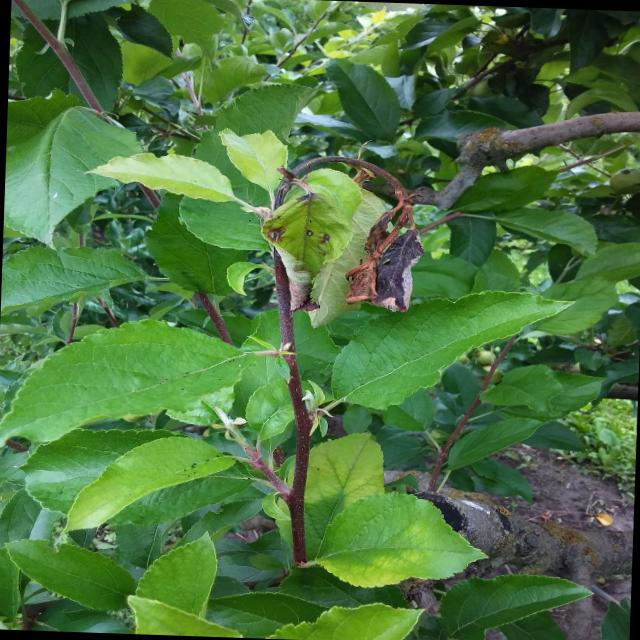-FireBlight-: (317, 148, 422, 308)
